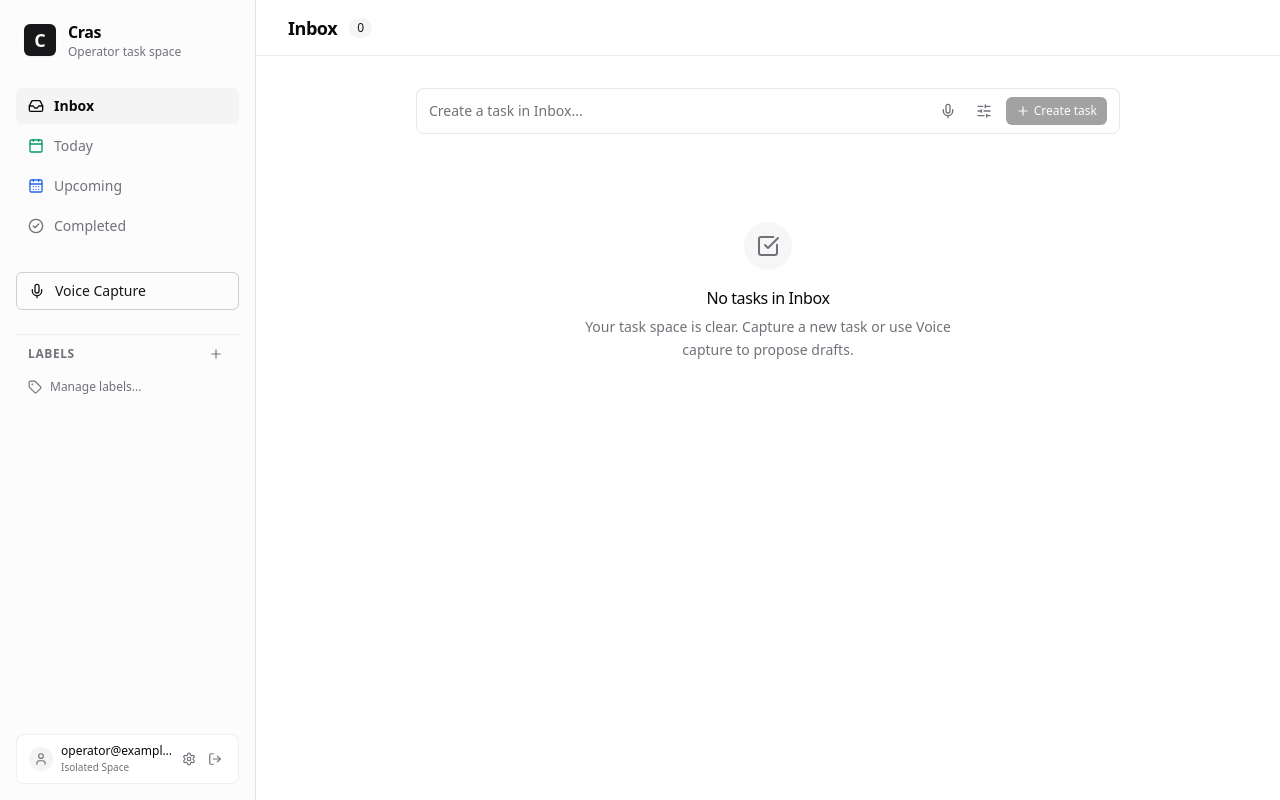
Web Offline Outbox Seam (Issue #51) › retains two independently accepted equal-title creates with distinct IDs without collapsing
The width and height of the screenshot is (1280, 800).
Note: Create first "Identical Title"
Type "Identical Title" into the field with placeholder "Create a task in Inbox..." at (677, 111), box [429,97,926,125]
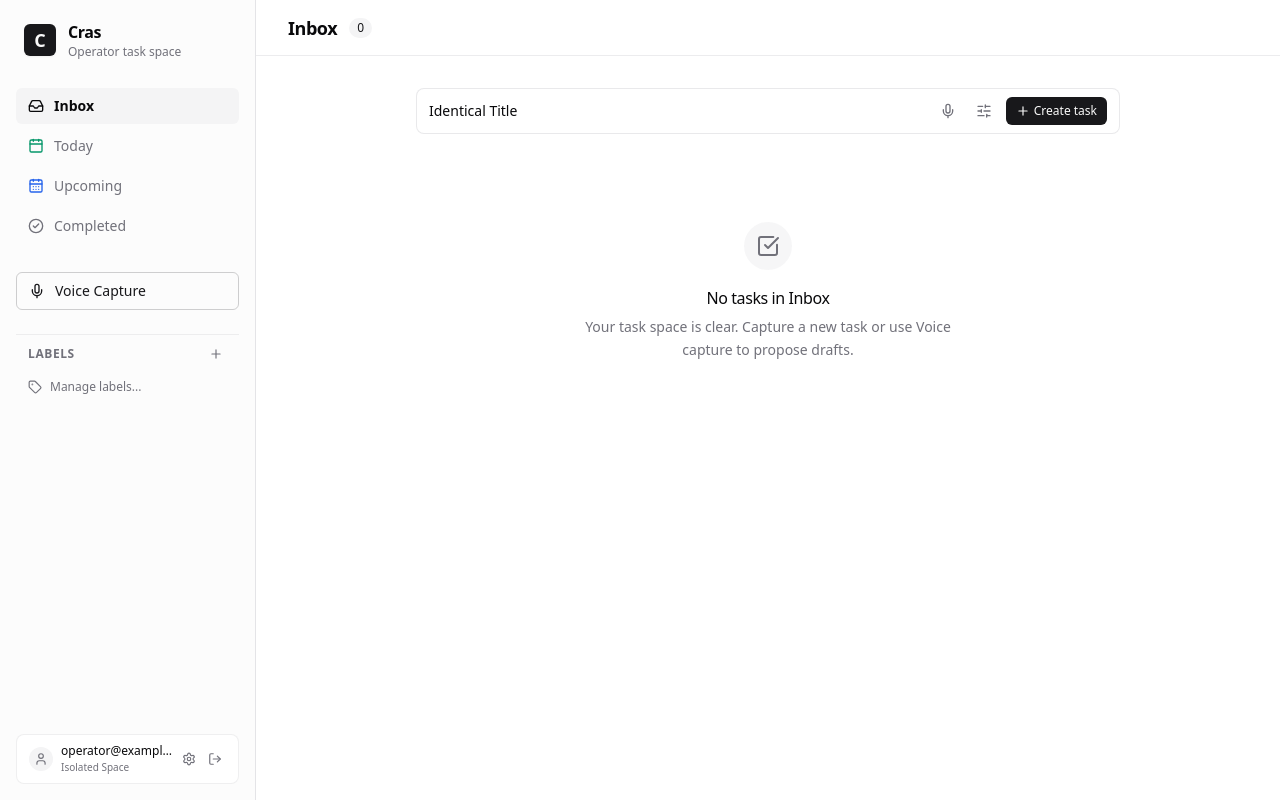
Submit the form with placeholder "create a task in inbox", box [416,88,1120,134]
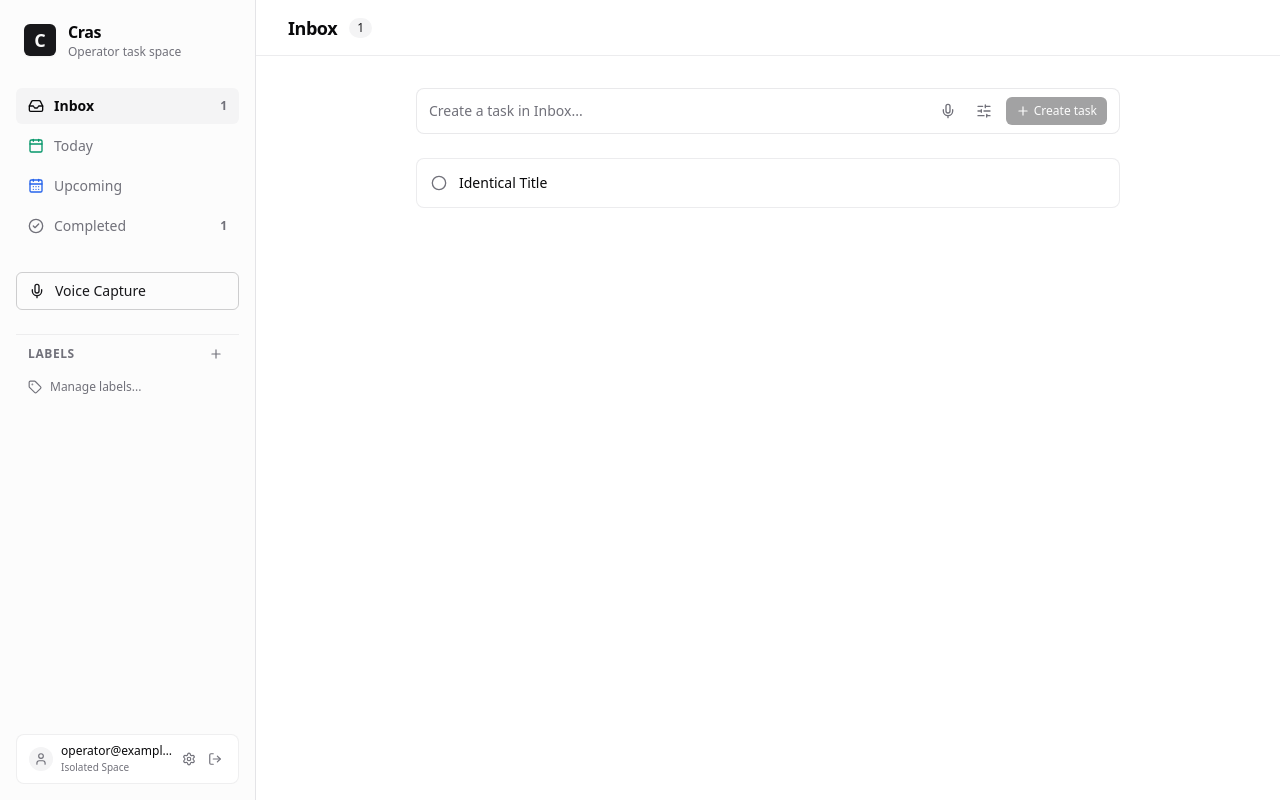
Now the text "Identical Title" is shown once, box [459,173,547,192]
Note: Create second "Identical Title"
Type "Identical Title" into the field with placeholder "Create a task in Inbox..." at (677, 111), box [429,97,926,125]
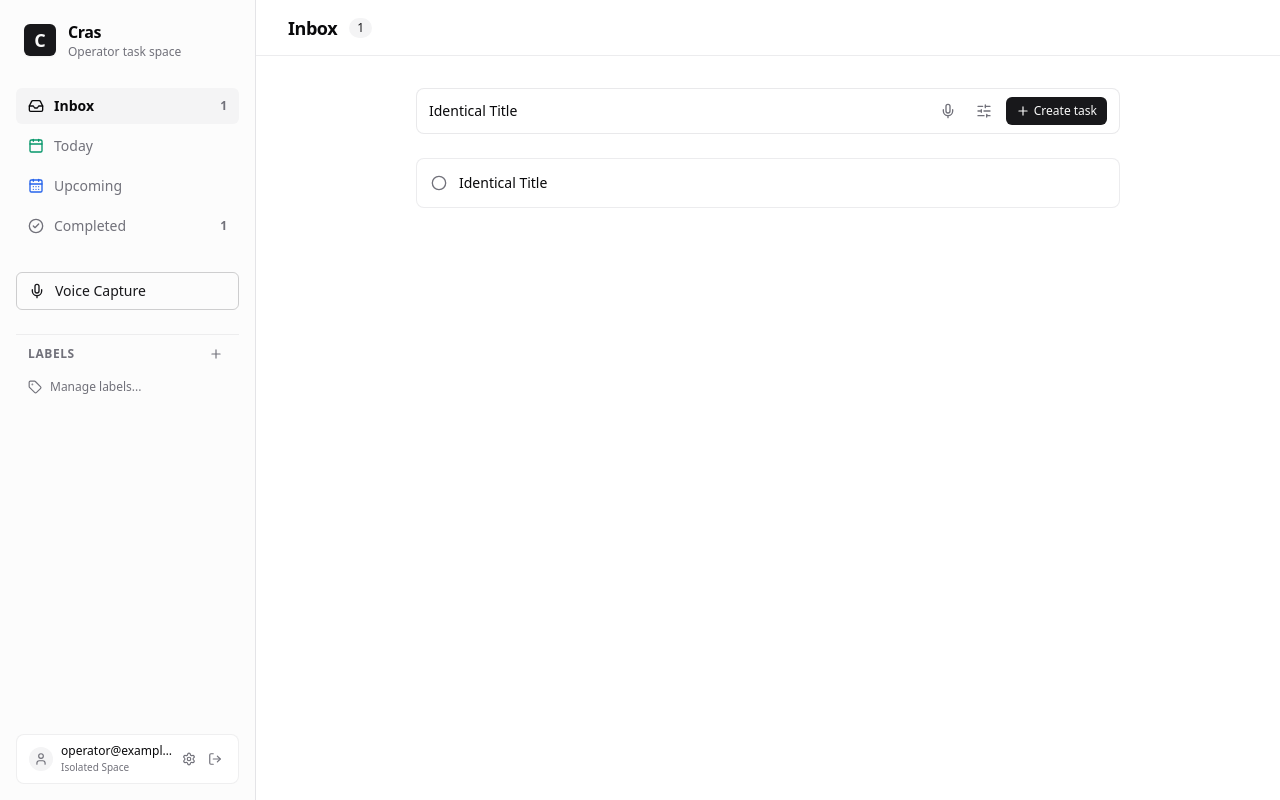
Submit the form with placeholder "create a task in inbox", box [416,88,1120,134]
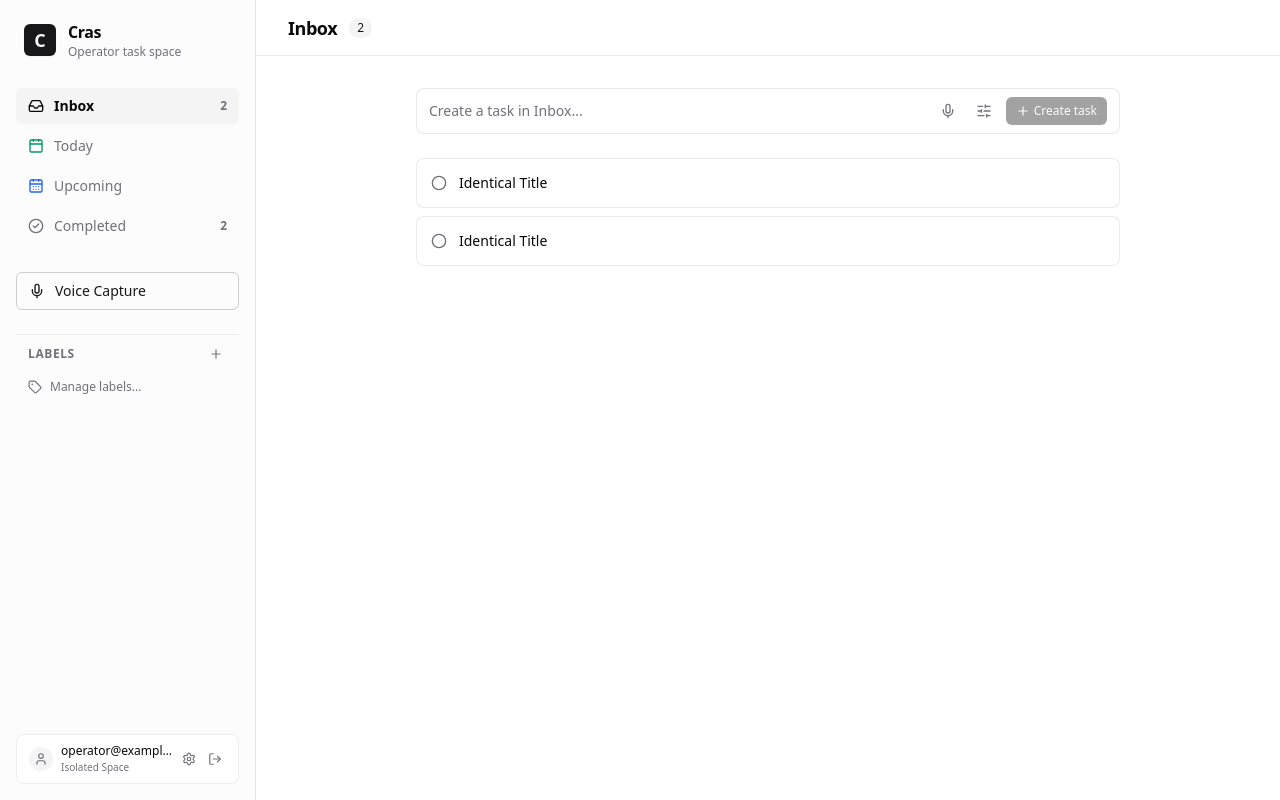
Now the text "Identical Title" is shown 2 times, box [459,173,547,192]; [459,231,547,250]
